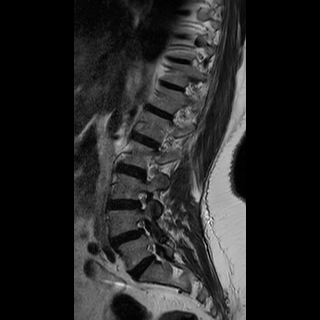RFS0: (129, 186, 154, 215)
